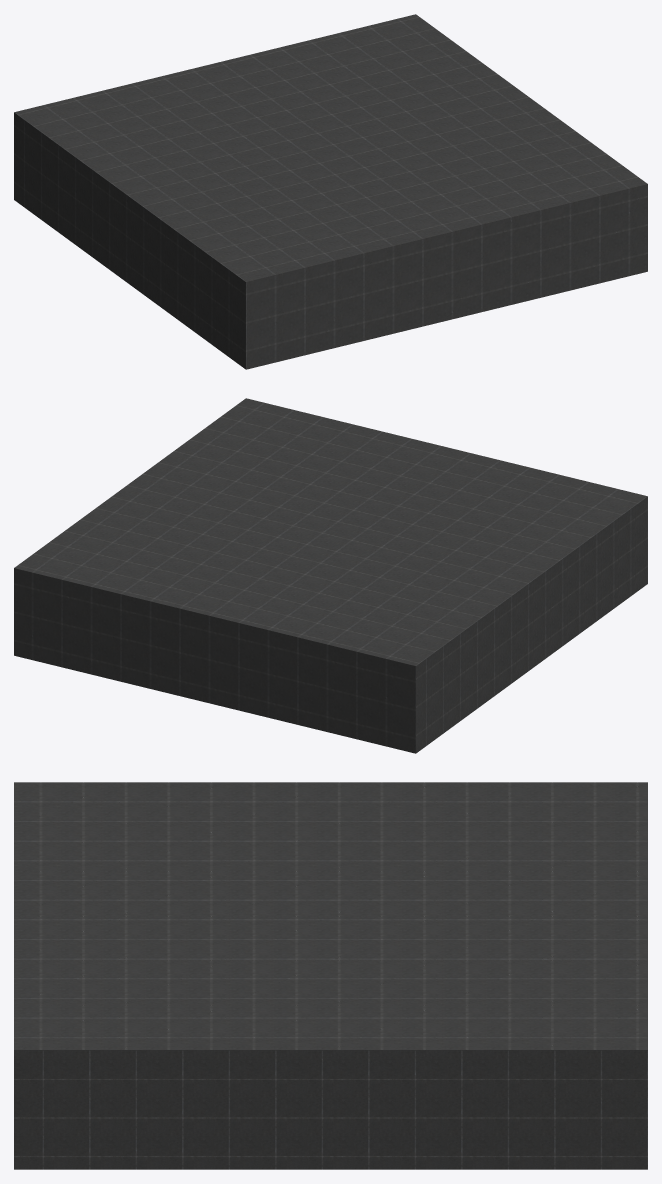
The model's file is climber-ground-1.fbx.
3 renders of one model, top to bottom at view 1: azimuth 30°, elevation 25°; view 2: azimuth 150°, elevation 25°; view 3: azimuth 270°, elevation 25°, orthographic. The views are drawn at different scales.
Parts seen in each view (by area): view 1: climber-ground; view 2: climber-ground; view 3: climber-ground.
Boxes of the visible parts, x1,y1,x2,y2 form: climber-ground: (14, 14, 647, 369); climber-ground: (14, 398, 647, 753); climber-ground: (14, 782, 647, 1169).
Bounding box in the file's own units: 28.62 × 5.96 × 28.62.
1 material, 1 textured.
